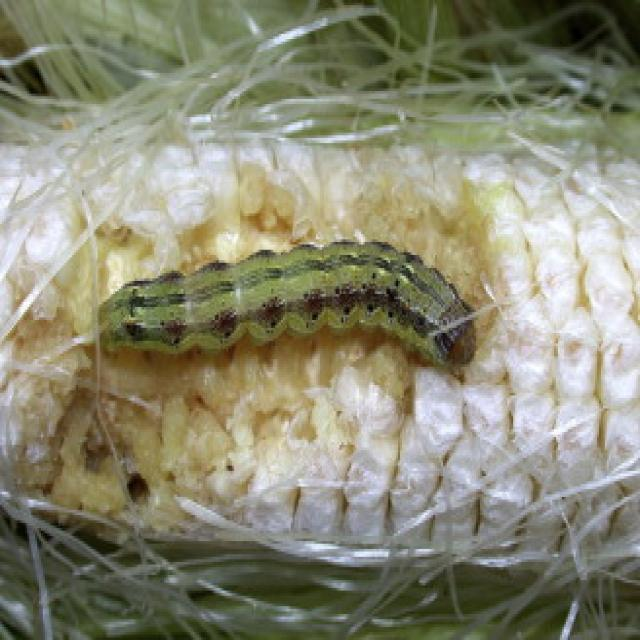worm: (93, 235, 485, 368)
